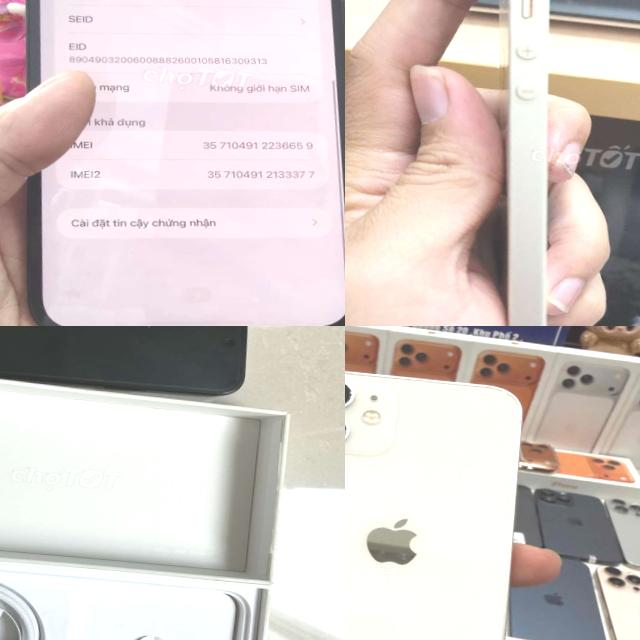gen_12_13: (0, 0, 345, 326), (345, 361, 531, 640)
gen_15: (0, 326, 281, 416)
gen_6: (498, 0, 549, 326)
